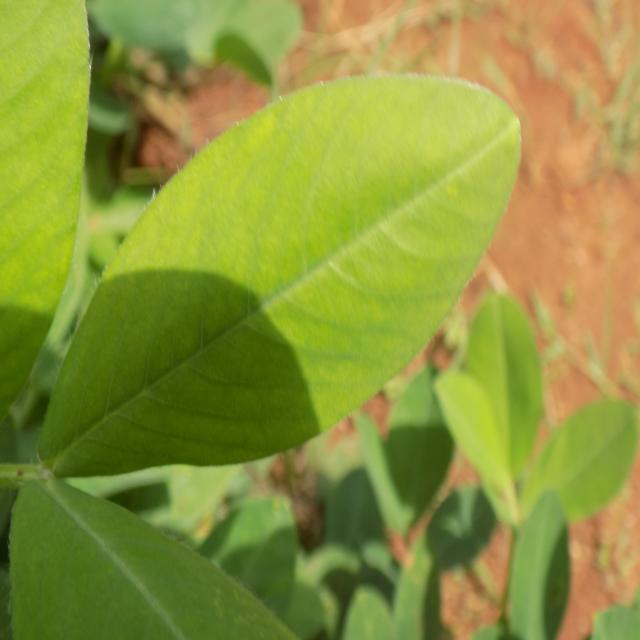Ground nut_healthy: (37, 70, 522, 474)
